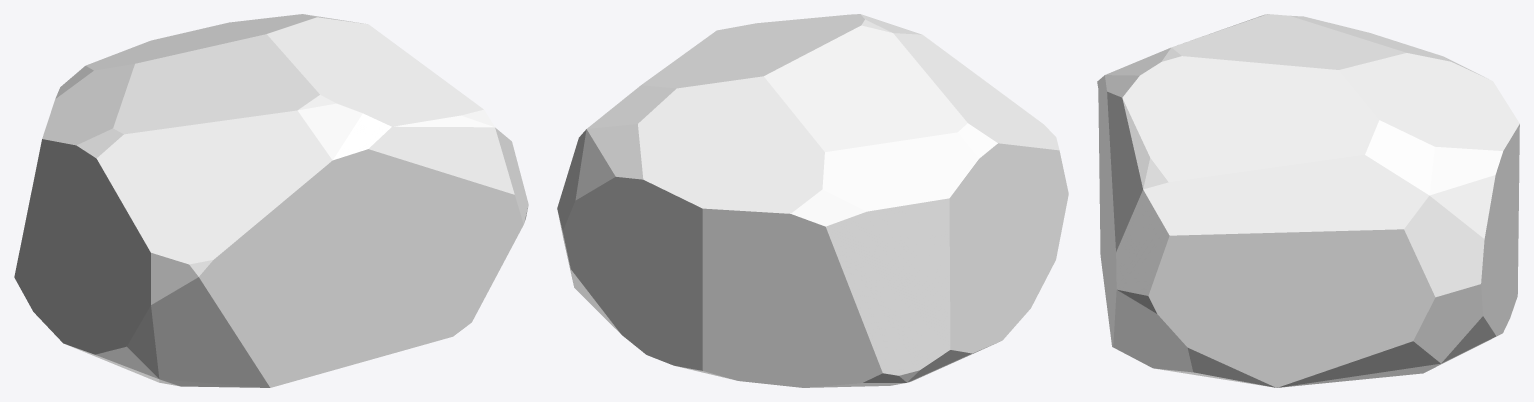
Rendered from medic_salt_1.fbx.
3 views of the same model, side by side, from view 1: azimuth 30°, elevation 25°; view 2: azimuth 150°, elevation 25°; view 3: azimuth 270°, elevation 25° (orthographic). The views are drawn at different scales.
Parts seen in each view (by area): view 1: medic_salt_1; view 2: medic_salt_1; view 3: medic_salt_1.
Part boxes in pixels (x1,y1,x2,y2): medic_salt_1: (14, 14, 528, 387); medic_salt_1: (557, 14, 1068, 387); medic_salt_1: (1097, 14, 1519, 387).
Bounding box in the file's own units: 172 × 101 × 156.
